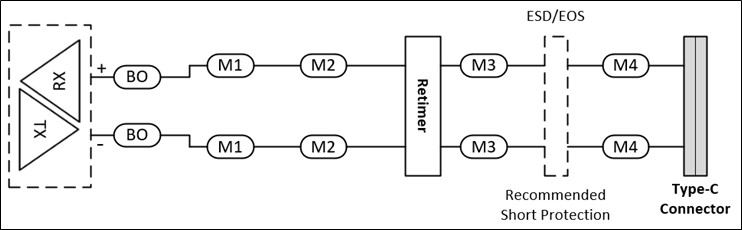dotted_rectangle: (2, 15, 101, 192), (540, 31, 570, 178)
oval: (112, 59, 162, 92), (111, 117, 161, 150), (205, 49, 255, 82), (205, 128, 255, 161), (298, 49, 348, 82), (297, 128, 347, 161), (459, 49, 509, 82), (457, 129, 507, 162), (600, 49, 650, 82), (600, 130, 650, 163)
rectangle: (401, 28, 445, 179), (674, 32, 718, 183)
triangle: (20, 39, 85, 126), (14, 87, 79, 174)
